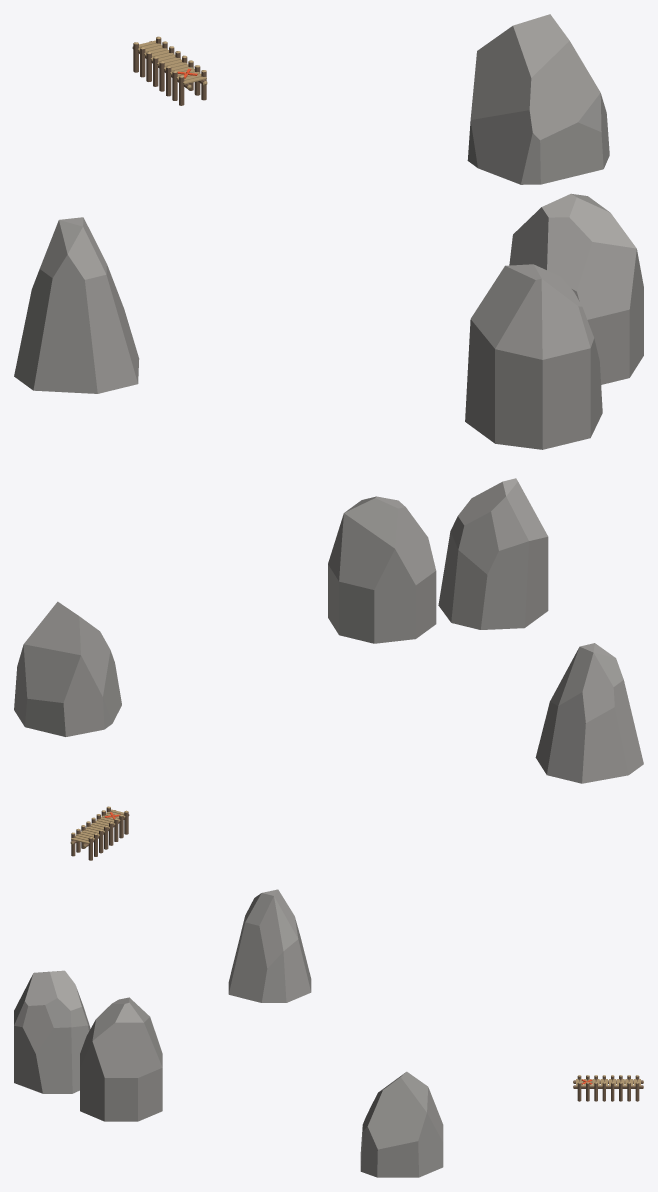
Rendered from beachdeck01.obj.
3 renders of one model, top to bottom at view 1: azimuth 30°, elevation 25°; view 2: azimuth 150°, elevation 25°; view 3: azimuth 270°, elevation 25°, orthographic. The views are drawn at different scales.
Visible parts, largest first — view 1: Mountain_2_1, Mountain_4_3, Mountain_3_2, Mountain_1_0; view 2: Mountain_1_0, Mountain_2_1, Mountain_4_3, Mountain_3_2; view 3: Mountain_1_0, Mountain_2_1, Mountain_4_3, Mountain_3_2.
Boxes of the visible parts, x1,y1,x2,y2 form: Mountain_2_1: [465, 264, 602, 449]; Mountain_4_3: [467, 14, 609, 184]; Mountain_3_2: [14, 217, 139, 393]; Mountain_1_0: [509, 193, 643, 384]; Mountain_1_0: [328, 496, 436, 643]; Mountain_2_1: [438, 478, 548, 629]; Mountain_4_3: [14, 601, 121, 736]; Mountain_3_2: [535, 643, 643, 783]; Mountain_1_0: [80, 997, 162, 1121]; Mountain_2_1: [14, 970, 90, 1093]; Mountain_4_3: [360, 1071, 443, 1177]; Mountain_3_2: [228, 889, 311, 1002].
Bounding box in the file's own units: 30 × 6.85 × 38.15.
